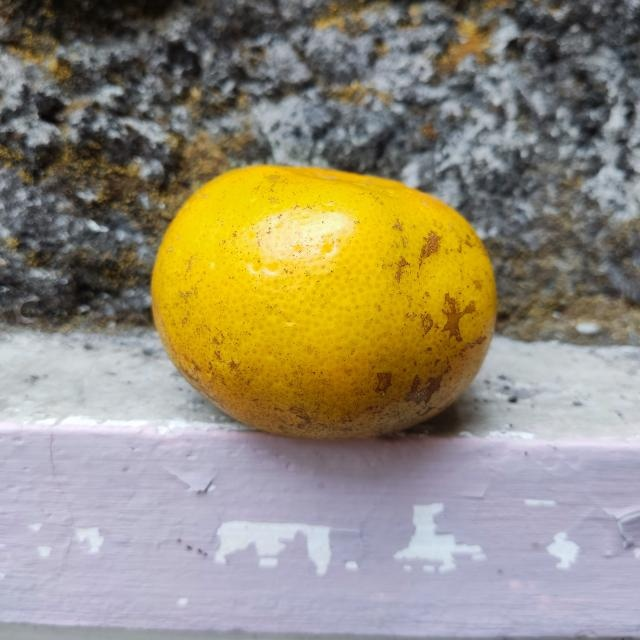agrume: (148, 164, 496, 440)
